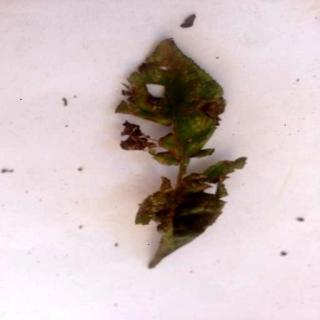Brown Blight: (116, 39, 248, 272)
